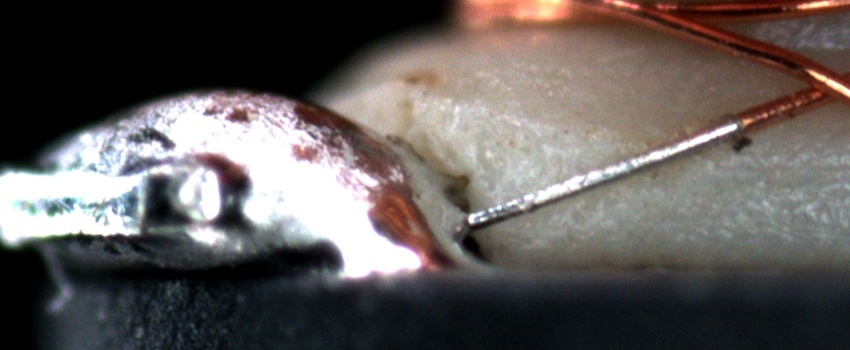CL: (778, 57, 847, 112)
DL: (712, 138, 850, 197)
TS: (466, 116, 743, 228)
